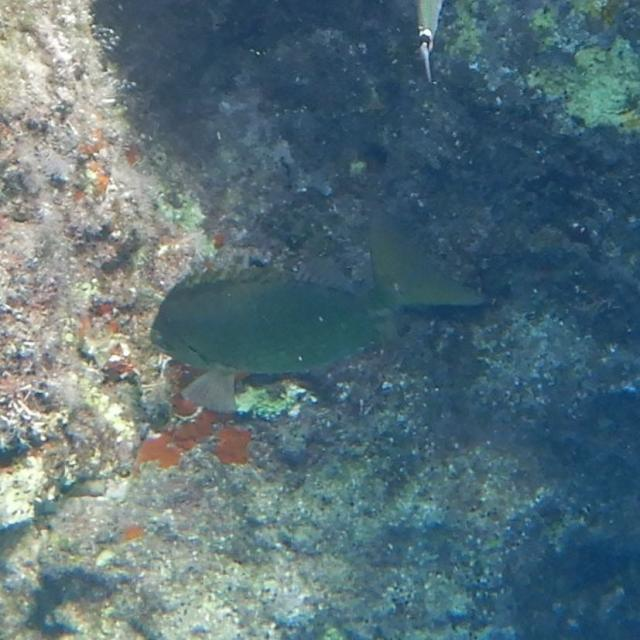Sokar Baligi: (128, 205, 503, 392)
